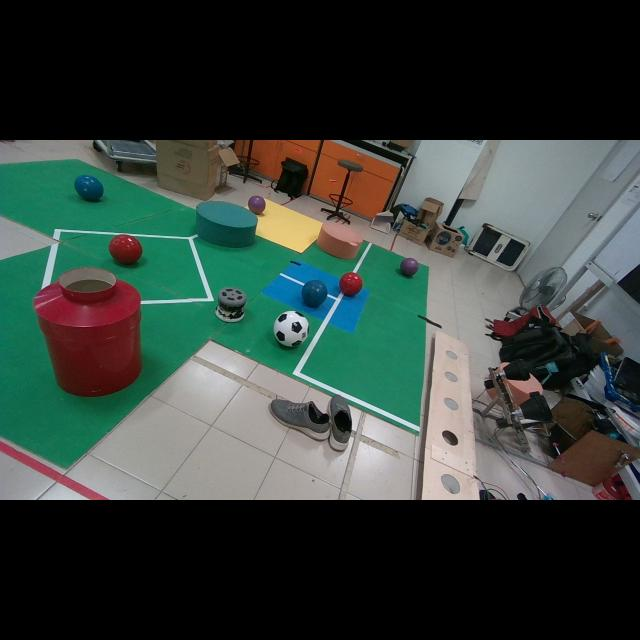B: (74, 175, 104, 201), (301, 280, 328, 307)
P: (400, 258, 419, 276), (248, 195, 265, 215)
R: (109, 235, 142, 265), (339, 272, 362, 296)
